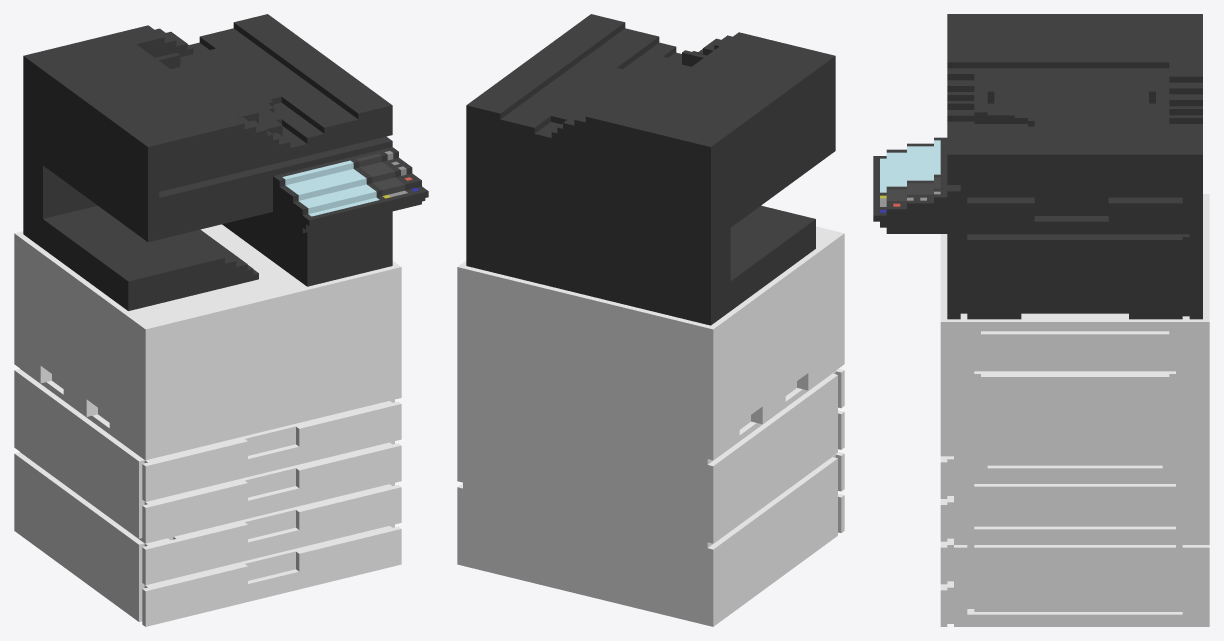
File: Printer1.fbx
The picture shows the model from 3 angles, left to right: view 1: azimuth 30°, elevation 25°; view 2: azimuth 150°, elevation 25°; view 3: azimuth 270°, elevation 25°; orthographic projection. The views are drawn at different scales.
Parts seen in each view (by area): view 1: Printer1.001, Printer1.002, Printer1; view 2: Printer1.001, Printer1.002, Printer1; view 3: Printer1.001, Printer1.002, Printer1.
Part boxes in pixels (<box>): Printer1.001: <box>14,109,428,626</box>; Printer1.002: <box>23,14,392,200</box>; Printer1: <box>155,48,315,136</box>; Printer1.001: <box>457,109,844,626</box>; Printer1.002: <box>466,14,835,200</box>; Printer1: <box>551,50,706,124</box>; Printer1.001: <box>873,137,1209,626</box>; Printer1.002: <box>947,14,1202,191</box>; Printer1: <box>974,68,1169,137</box>.
Bounding box in the file's own units: 4.5 × 8 × 5.
